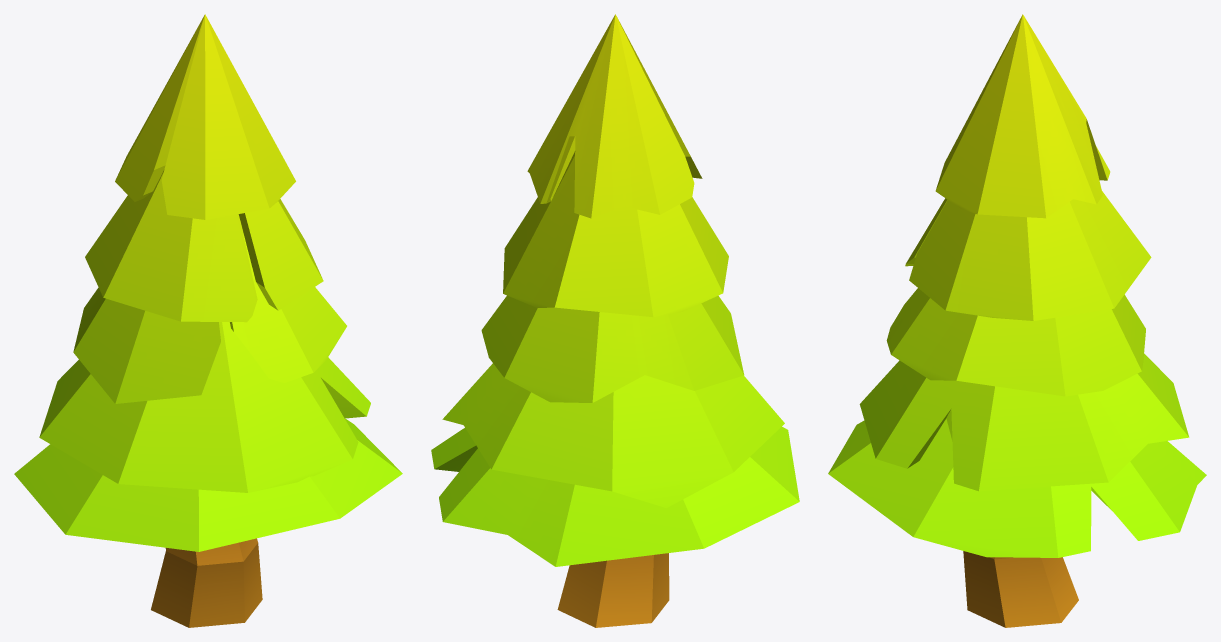
3 views of the same model, side by side, from view 1: azimuth 30°, elevation 25°; view 2: azimuth 150°, elevation 25°; view 3: azimuth 270°, elevation 25° (orthographic).
Visible parts, largest first — view 1: Object_1099; view 2: Object_1099; view 3: Object_1099.
Boxes of the visible parts, x1,y1,x2,y2 form: Object_1099: (14, 14, 402, 627); Object_1099: (431, 14, 799, 627); Object_1099: (828, 14, 1206, 627).
Size of the model in its own units: 0.4376 by 0.7528 by 0.4378.
Materials: 1 (1 with a texture image).
